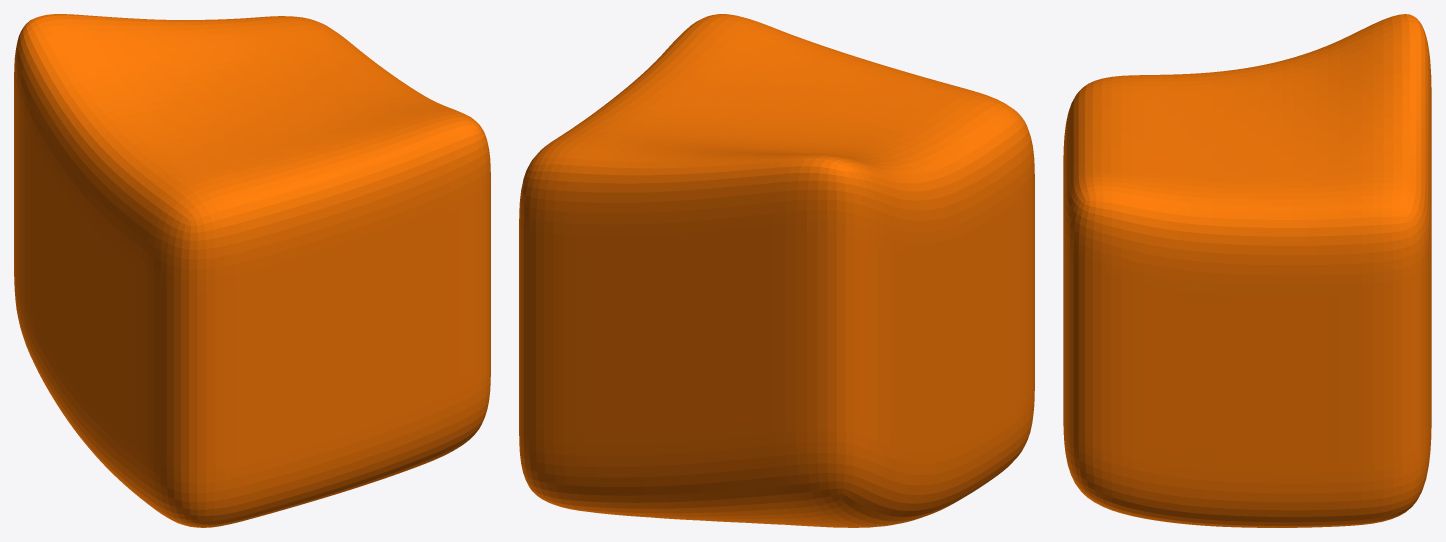
The picture shows the model from 3 angles, left to right: view 1: azimuth 30°, elevation 25°; view 2: azimuth 150°, elevation 25°; view 3: azimuth 270°, elevation 25°; orthographic projection. The views are drawn at different scales.
Parts seen in each view (by area): view 1: smooth_1_base.009; view 2: smooth_1_base.009; view 3: smooth_1_base.009.
Part boxes in pixels (bbox=[...]): smooth_1_base.009: bbox=[14, 14, 490, 527]; smooth_1_base.009: bbox=[519, 14, 1034, 527]; smooth_1_base.009: bbox=[1063, 14, 1431, 527].
Bounding box in the file's own units: 60 × 70.05 × 60.
